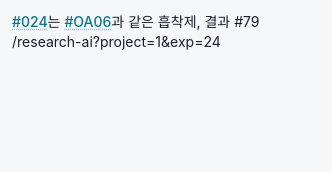
Test case: experiment codes anywhere › CodeText links known codes to their own project and keeps the text as recorded
Expected: the element with test id "t" reads "#024 는 #OA06 과 같은 흡착제, 결과 #79", [12,13,260,30]
Click the link "#OA06" at point(88, 22), box [64,13,111,30]
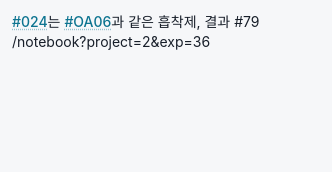
Expected: the text with test id "where" reads "/notebook?project=2&exp=36", [12,33,210,50]
